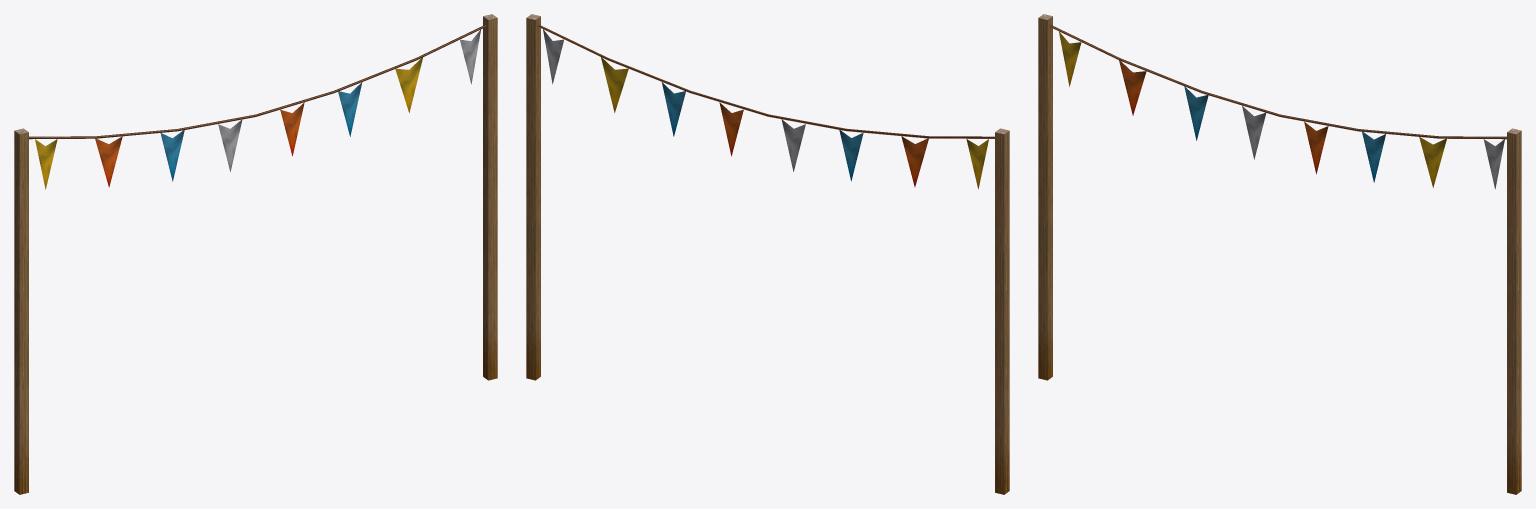
File: PillarWood.FBX
3 renders of one model, left to right at view 1: azimuth 30°, elevation 25°; view 2: azimuth 150°, elevation 25°; view 3: azimuth 330°, elevation 25°, orthographic.
Parts seen in each view (by area): view 1: PillarWood; view 2: PillarWood; view 3: PillarWood.
Part boxes in pixels (x1=…): PillarWood: x1=14, y1=14, x2=497, y2=494; PillarWood: x1=526, y1=14, x2=1009, y2=494; PillarWood: x1=1038, y1=14, x2=1521, y2=494.
Bounding box in the file's own units: 632 × 455 × 12.15.
